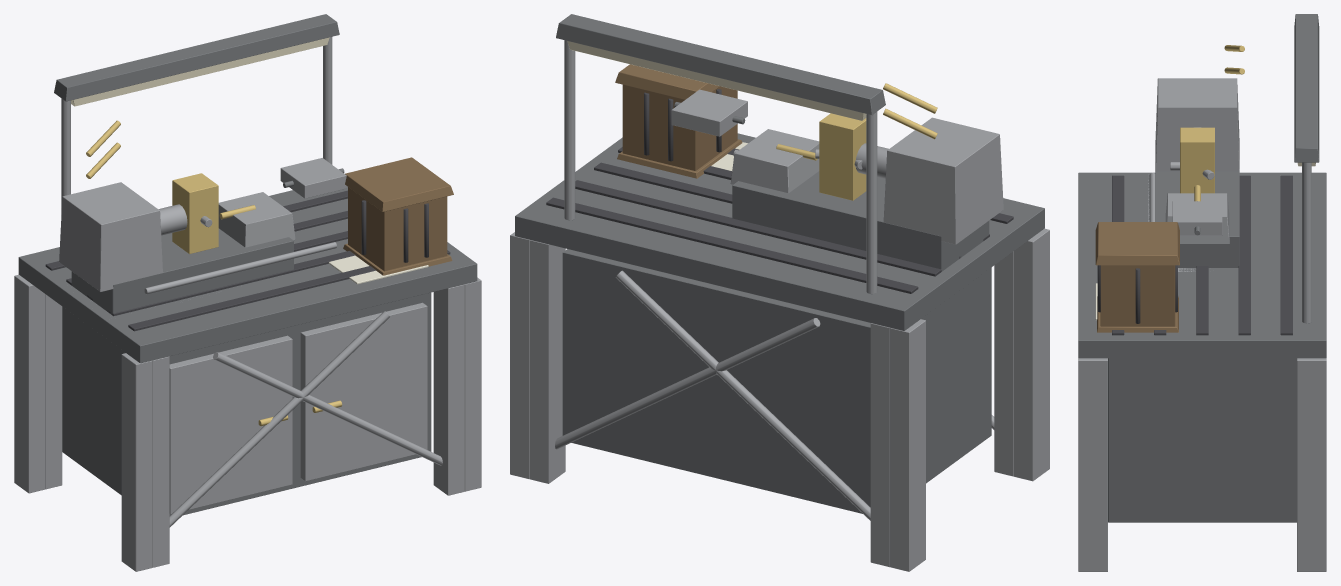
The model's file is DD_workbench3.fbx.
3 views of the same model, side by side, from view 1: azimuth 30°, elevation 25°; view 2: azimuth 150°, elevation 25°; view 3: azimuth 270°, elevation 25° (orthographic). The views are drawn at different scales.
Parts seen in each view (by area): view 1: DD_workbench3; view 2: DD_workbench3; view 3: DD_workbench3.
Part boxes in pixels (x1=…): DD_workbench3: x1=14, y1=14, x2=481, y2=571; DD_workbench3: x1=510, y1=14, x2=1049, y2=571; DD_workbench3: x1=1078, y1=14, x2=1326, y2=571.
Bounding box in the file's own units: 1.64 × 1.8 × 1.
